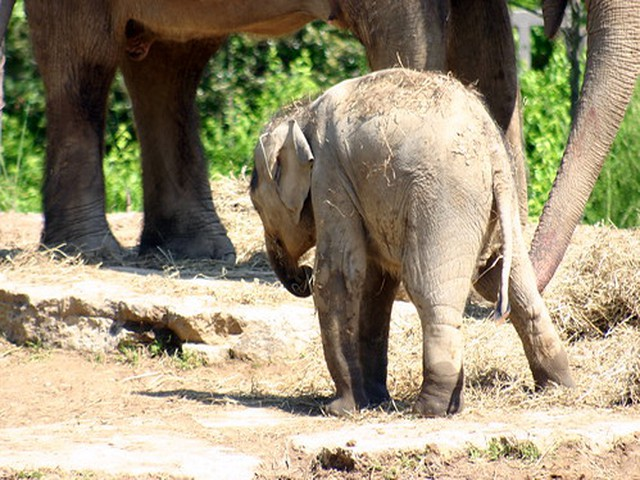Elephant: (18, 2, 638, 280), (250, 62, 580, 421)
